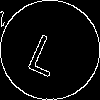L: (25, 25, 69, 78)
